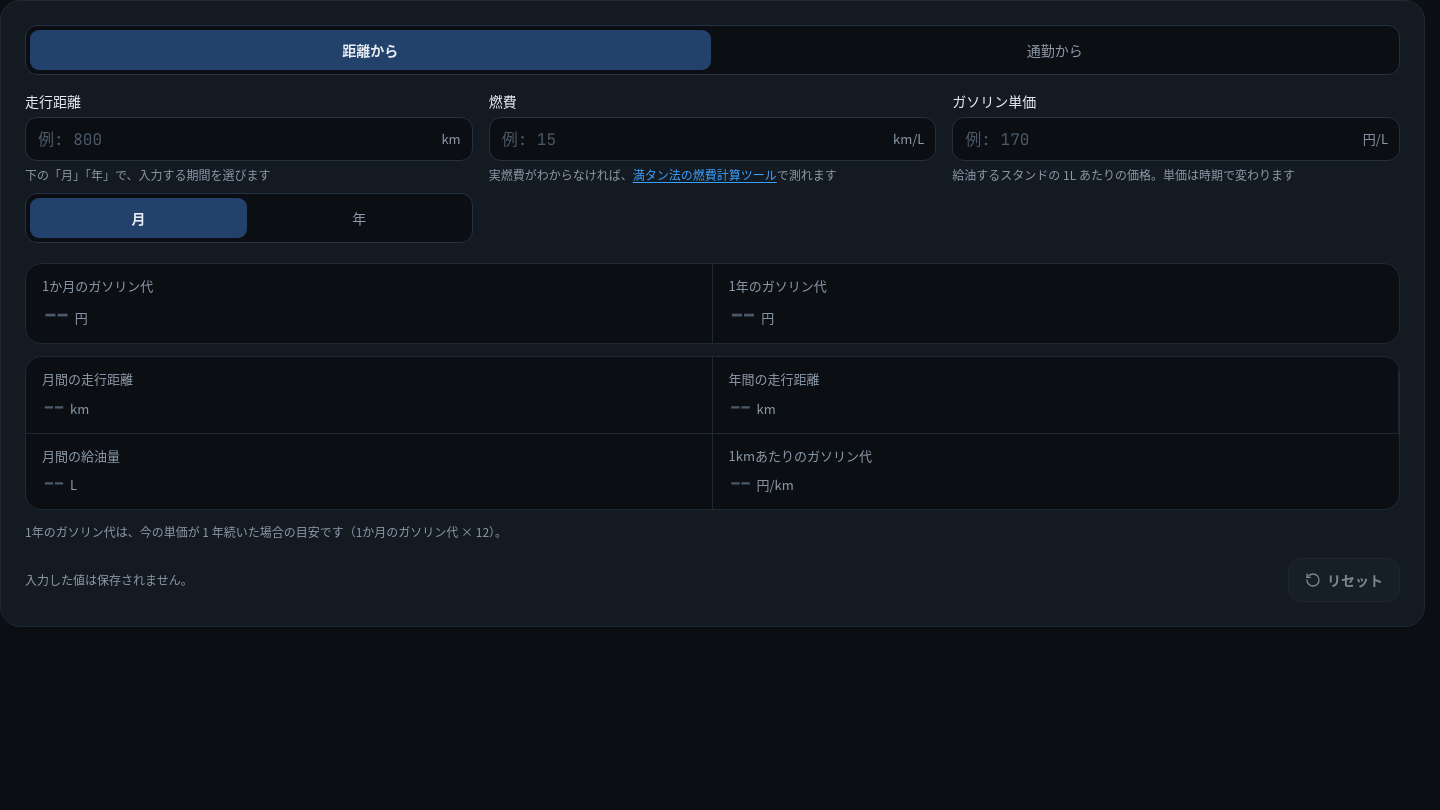
AnnualGasCostCalculator › 通勤から: 片道 × 2 × 日数で計算する（日数の既定は 20）
The width and height of the screenshot is (1440, 810).
Click the button "通勤から": (1055, 50) [714, 30, 1395, 70]
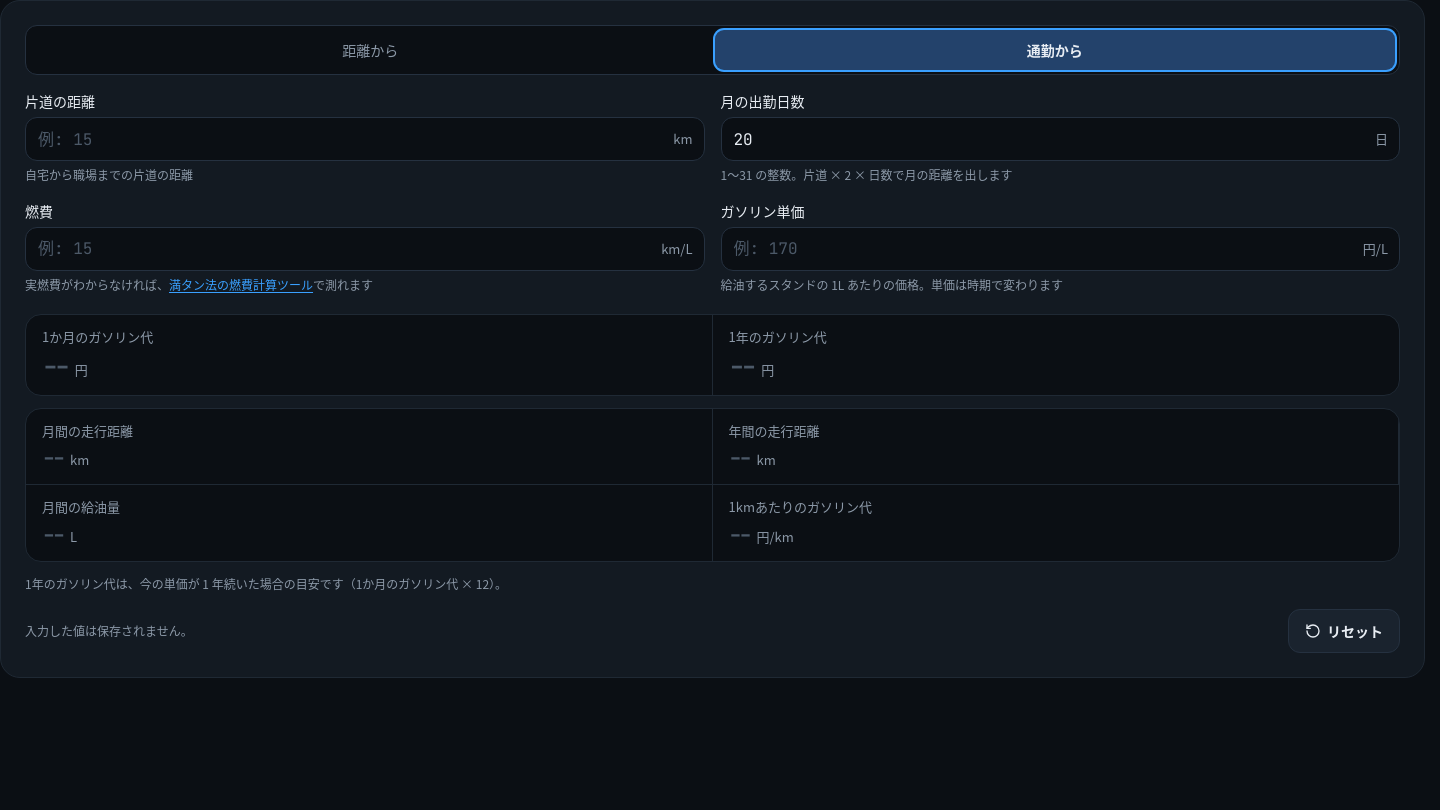
Check: the field labelled "月の出勤日数" holds "20", box [720, 117, 1400, 161]
In the field labelled "片道の距離": (365, 139) [25, 117, 704, 161], type "15"
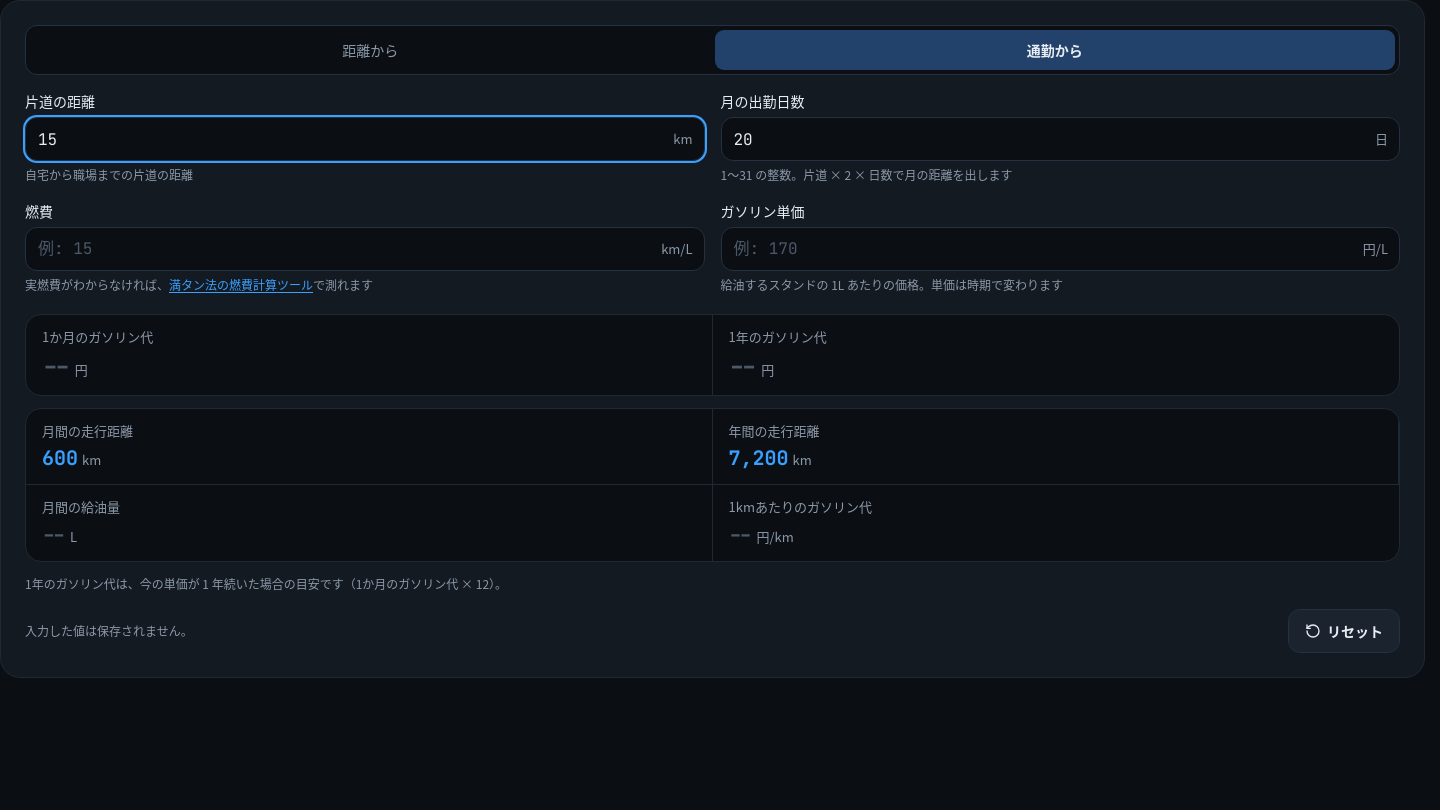
In the field labelled "燃費": (365, 248) [25, 226, 704, 270], type "15"
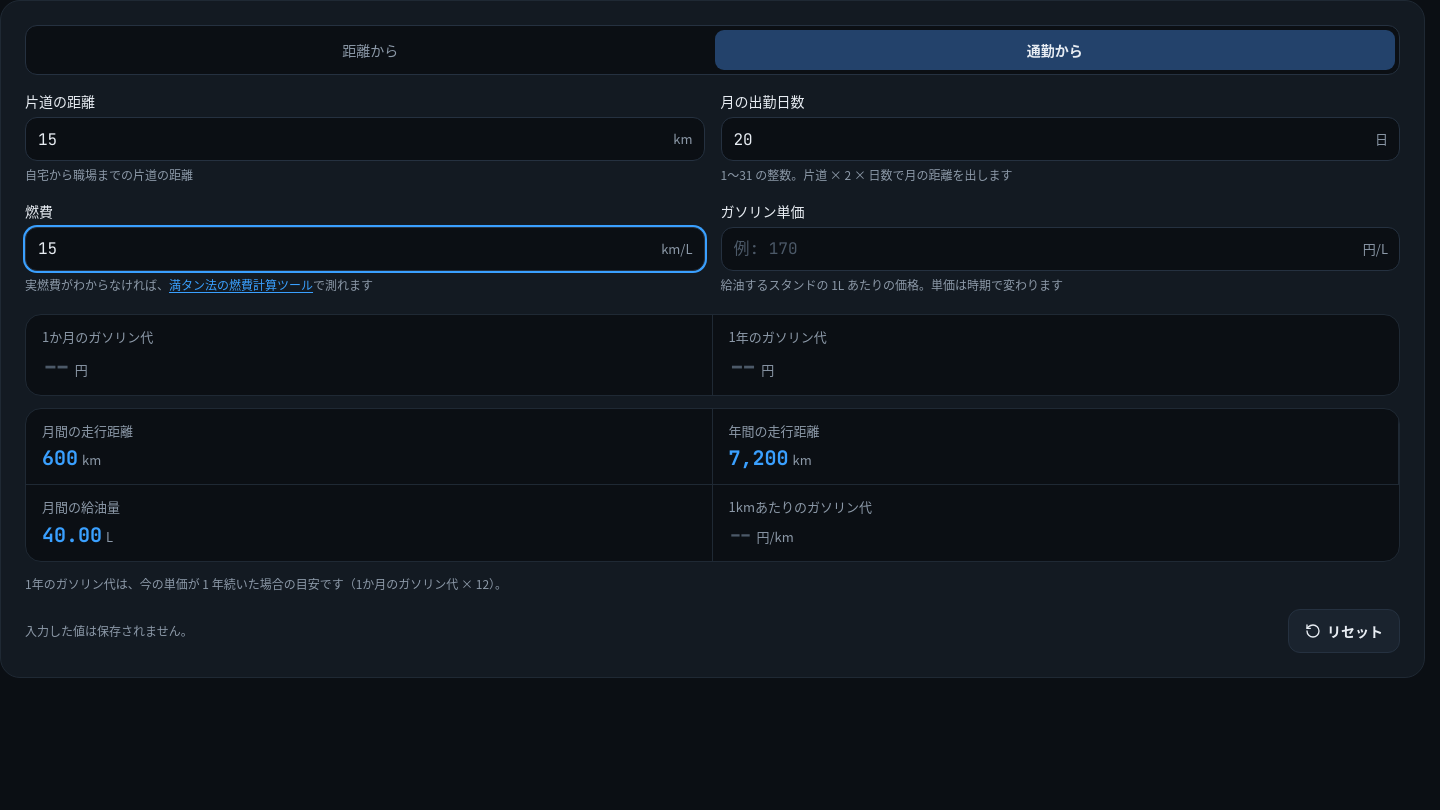
In the field labelled "ガソリン単価": (1060, 248) [720, 226, 1400, 270], type "170"
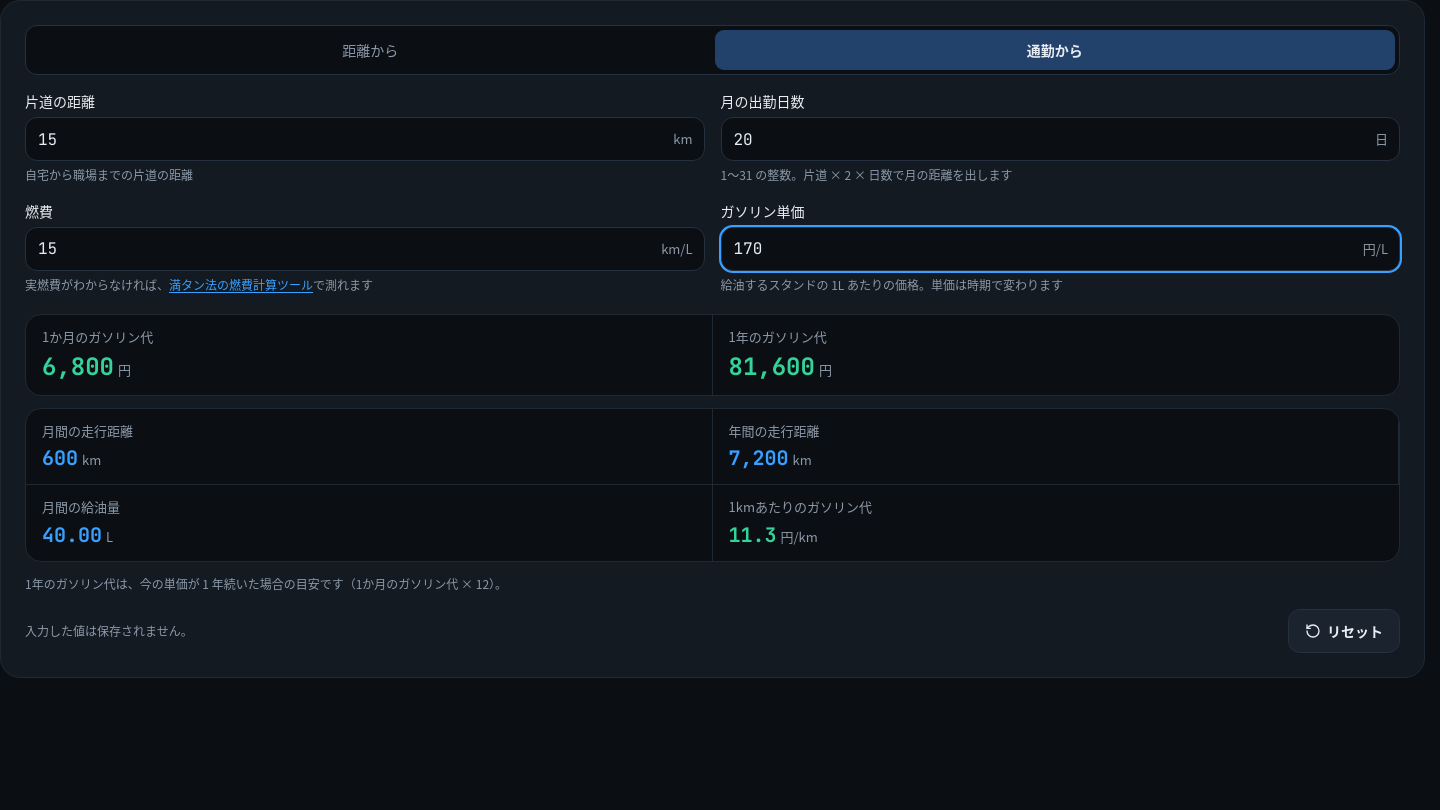
Replace the text in the field labelled "月の出勤日数" with "40": (1060, 139) [720, 117, 1400, 161]
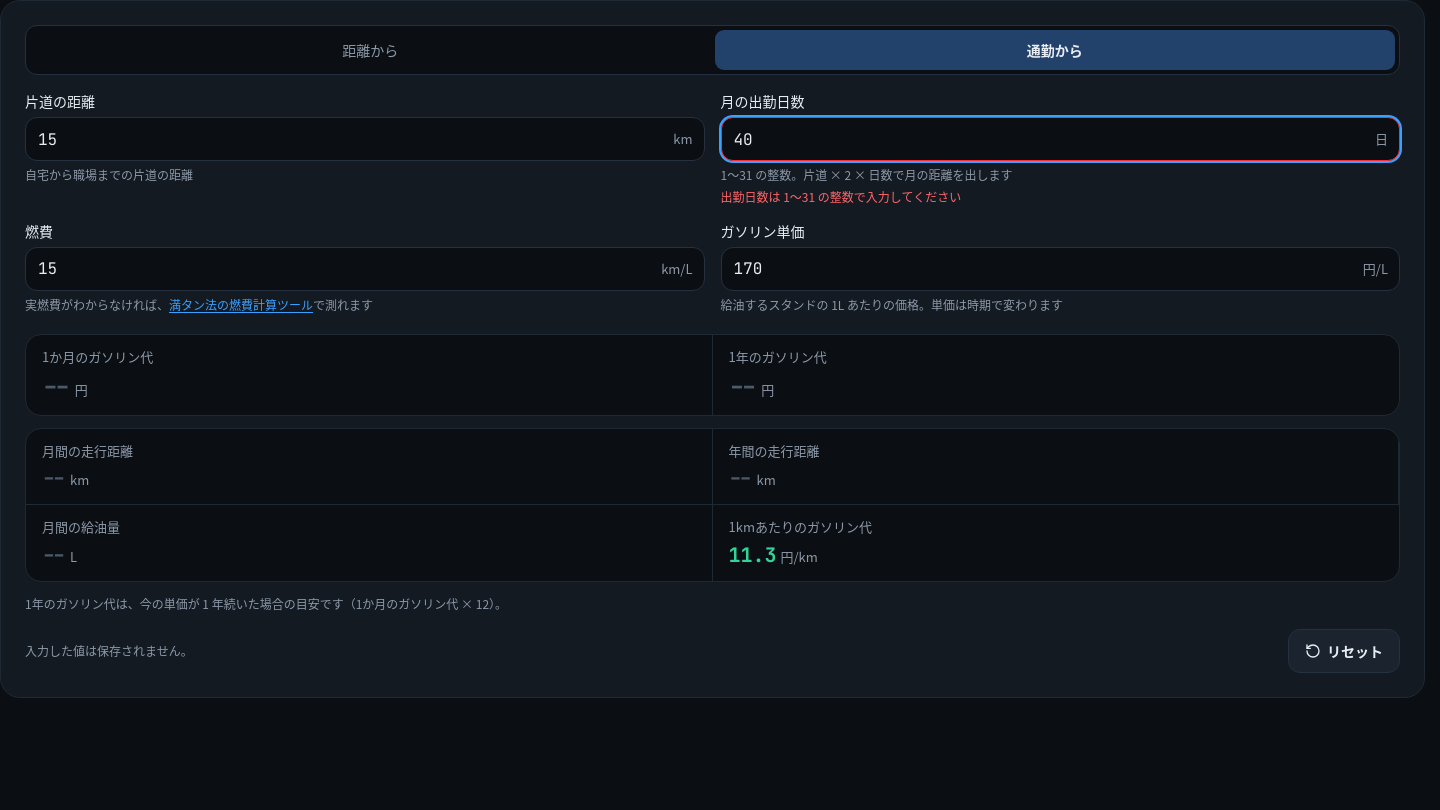
Check: the text "出勤日数は 1〜31 の整数で入力してください" is shown, box [720, 188, 961, 204]
